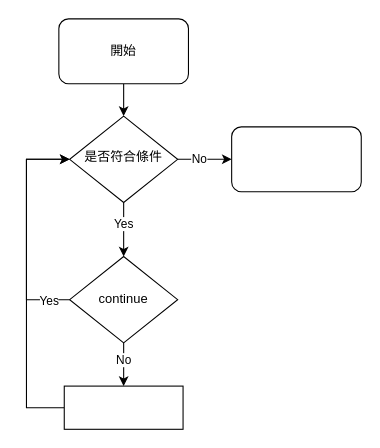
This 380x448 diagram has some shape labels left out. The shapes that lost their labels are listed below. From the top down, each one's box as (x1, y1, x2, y2) in pixels, then its label:
(231, 126, 361, 192): 結束
(63, 385, 183, 429): Do something
